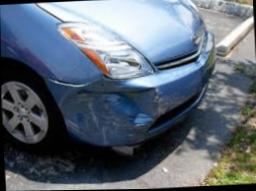Bumper: (43, 75, 177, 146)
